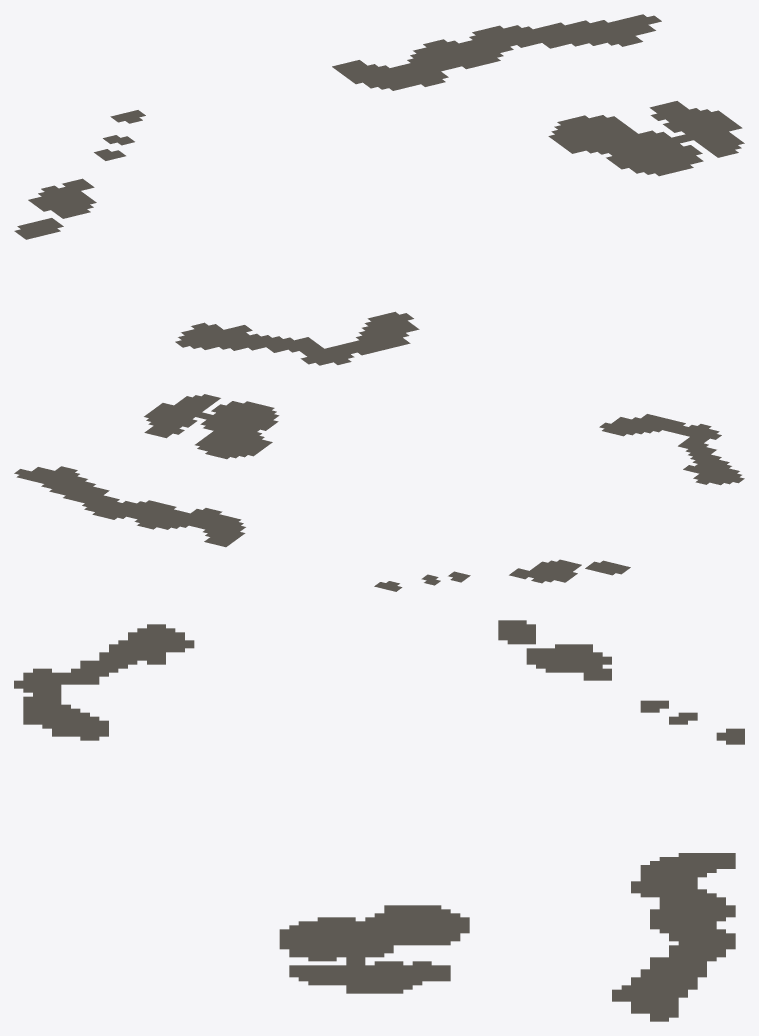
The model's file is Isl-start3-NoBuildArea.fbx.
3 views of the same model, one above another, from view 1: azimuth 30°, elevation 25°; view 2: azimuth 150°, elevation 25°; view 3: azimuth 270°, elevation 25° (orthographic). The views are drawn at different scales.
Parts seen in each view (by area): view 1: Isl-start3-NoBuildArea; view 2: Isl-start3-NoBuildArea; view 3: Isl-start3-NoBuildArea.
Part boxes in pixels (x1,y1,x2,y2): Isl-start3-NoBuildArea: (14, 14, 744, 365); Isl-start3-NoBuildArea: (14, 394, 744, 591); Isl-start3-NoBuildArea: (14, 620, 744, 1021).
Bounding box in the file's own units: 100 × 0 × 77.
